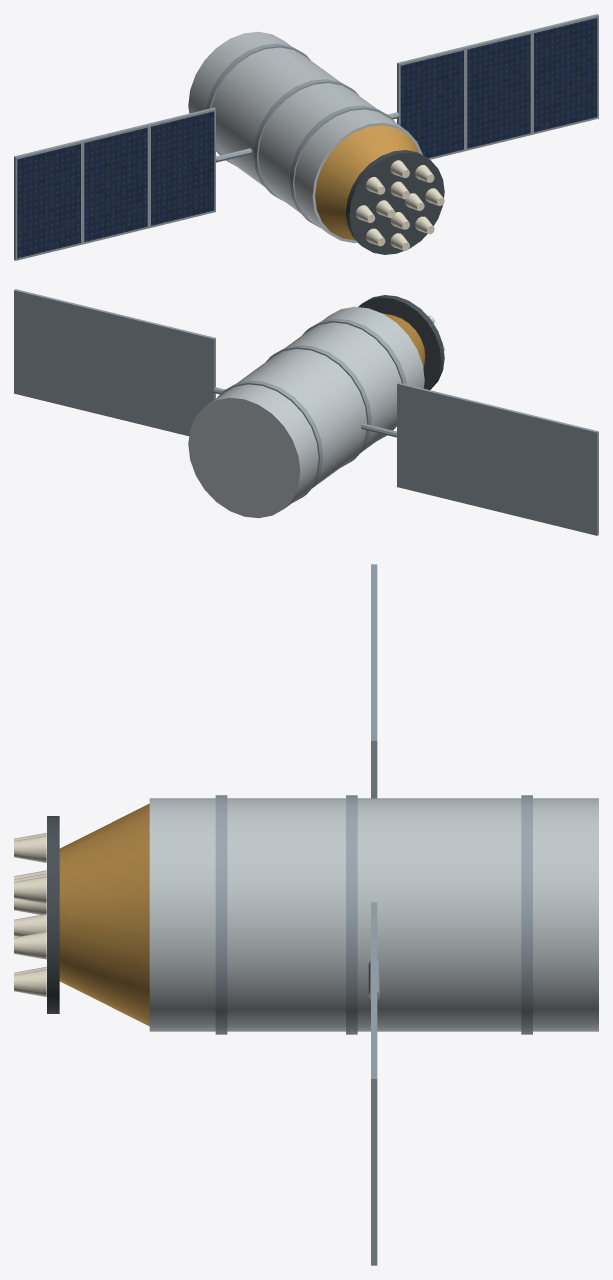
File: glonass-m.glb
3 views of the same model, one above another, from view 1: azimuth 30°, elevation 25°; view 2: azimuth 150°, elevation 25°; view 3: azimuth 270°, elevation 25° (orthographic). The views are drawn at different scales.
Visible parts, largest first — view 1: Photovoltaic laminates (×6), Pressurized service module, Array frame (×6), Navigation antenna base, Navigation deck support, Equipment belt (×3); view 2: Array frame (×6), Pressurized service module, Equipment belt (×3), Navigation antenna base, Navigation deck support; view 3: Pressurized service module, Navigation deck support, Equipment belt (×3), Navigation antenna base, Array frame.
Part boxes in pixels (box(x1,y1,x2,y2)): Photovoltaic laminates (×6): box(17, 18, 597, 258); Pressurized service module: box(188, 31, 422, 243); Array frame (×6): box(14, 14, 598, 260); Navigation antenna base: box(346, 150, 444, 254); Navigation deck support: box(315, 125, 418, 240); Equipment belt (×3): box(206, 43, 395, 227); Array frame (×6): box(14, 289, 598, 535); Pressurized service module: box(188, 306, 424, 518); Equipment belt (×3): box(217, 318, 406, 502); Navigation antenna base: box(358, 295, 444, 389); Navigation deck support: box(382, 313, 425, 369); Pressurized service module: box(149, 798, 598, 1031); Navigation deck support: box(59, 803, 149, 1026); Equipment belt (×3): box(215, 795, 532, 1034); Navigation antenna base: box(47, 816, 59, 1013); Array frame: box(371, 1020, 377, 1265).
Size of the model in its own units: 7.8 by 1.54 by 3.75.
6 materials, 1 textured.
